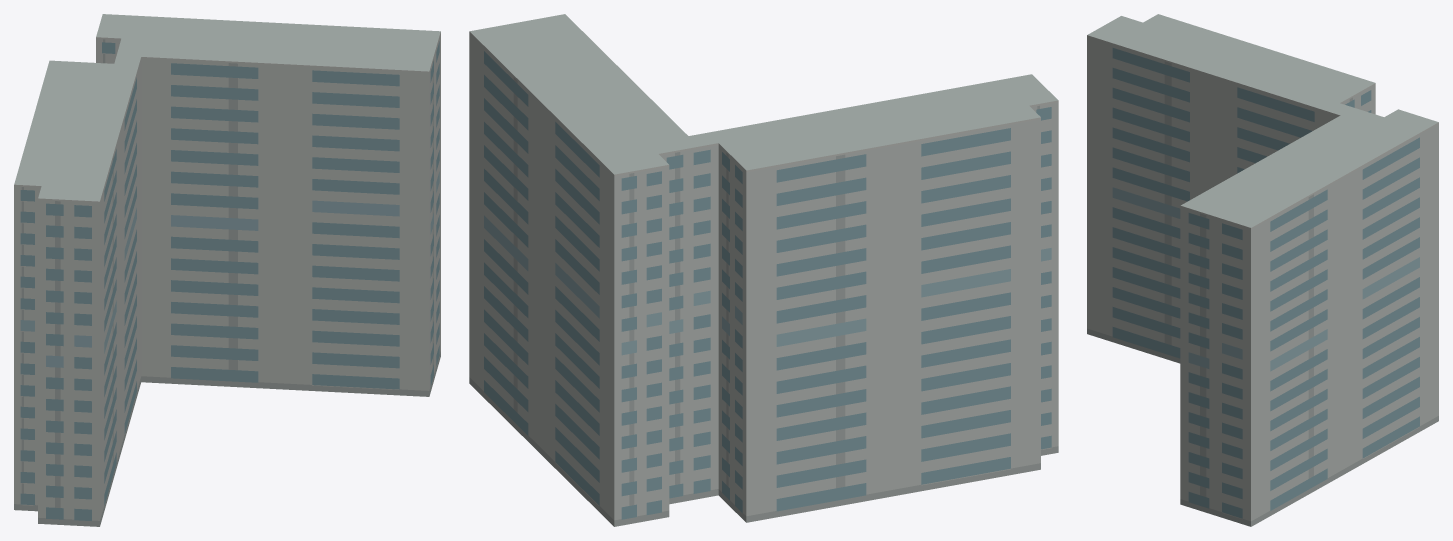
The model's file is residential-67499448-79a0-4f6d-86f3-00b8ce749b06.glb.
The picture shows the model from 3 angles, left to right: view 1: azimuth 30°, elevation 25°; view 2: azimuth 150°, elevation 25°; view 3: azimuth 270°, elevation 25°; orthographic projection. The views are drawn at different scales.
Parts seen in each view (by area): view 1: residential-67499448-79a0-4f6d-86f3-00b8ce749b06.tmp; view 2: residential-67499448-79a0-4f6d-86f3-00b8ce749b06.tmp; view 3: residential-67499448-79a0-4f6d-86f3-00b8ce749b06.tmp.
Boxes of the visible parts, x1,y1,x2,y2 form: residential-67499448-79a0-4f6d-86f3-00b8ce749b06.tmp: (14, 14, 440, 526); residential-67499448-79a0-4f6d-86f3-00b8ce749b06.tmp: (469, 14, 1058, 526); residential-67499448-79a0-4f6d-86f3-00b8ce749b06.tmp: (1087, 14, 1438, 526).
Bounding box in the file's own units: 70.24 × 45.75 × 48.81.
